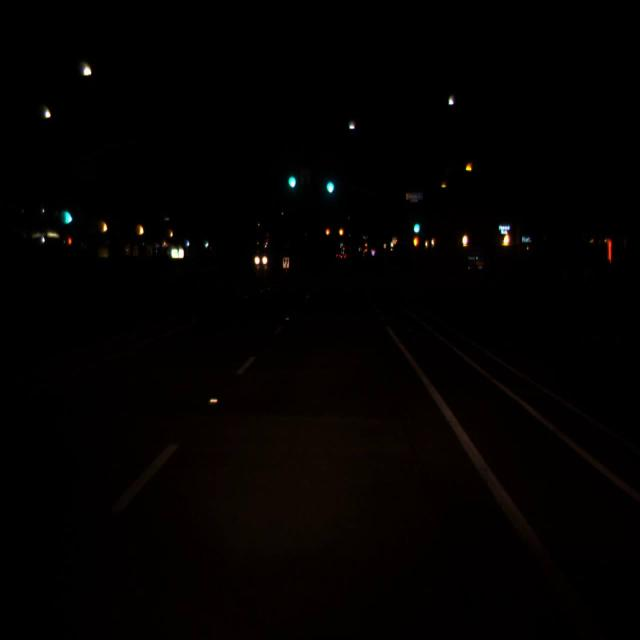go: (289, 177, 295, 186), (327, 183, 333, 190), (66, 212, 70, 222), (414, 225, 419, 231)
go traffic light: (285, 164, 297, 190), (323, 172, 335, 194), (64, 198, 71, 228), (412, 214, 421, 234)
warning: (326, 229, 330, 235), (339, 229, 343, 235)
warning traffic light: (337, 223, 343, 240), (324, 225, 330, 238)
